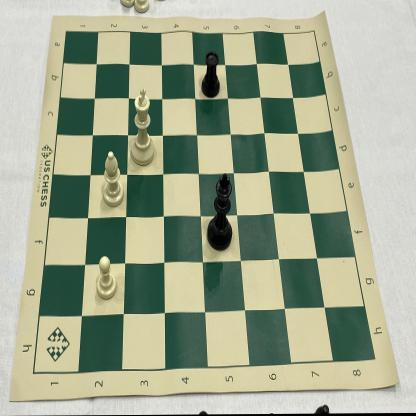black-king: (205, 171, 235, 253)
black-rook: (200, 51, 222, 101)
white-bishop: (100, 149, 124, 207)
white-king: (130, 84, 157, 168)
white-pawn: (94, 254, 117, 303)
